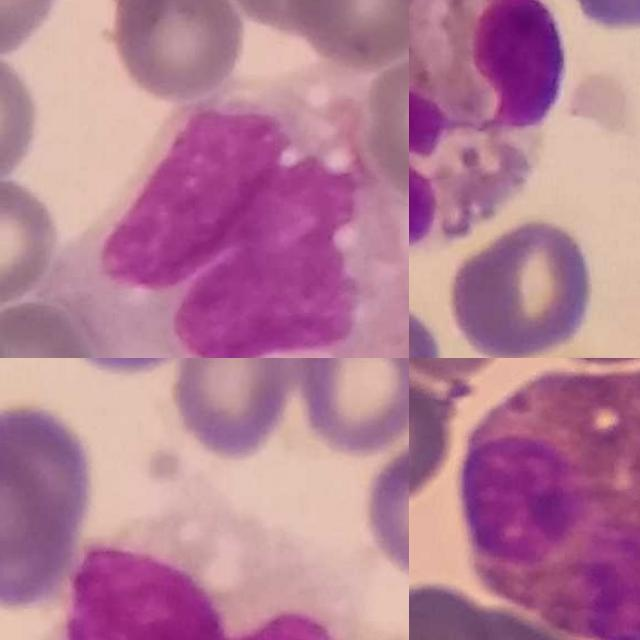Eosinophil: (460, 365, 640, 640), (409, 0, 570, 251)
Monocyte: (54, 75, 409, 358), (60, 521, 379, 640)
